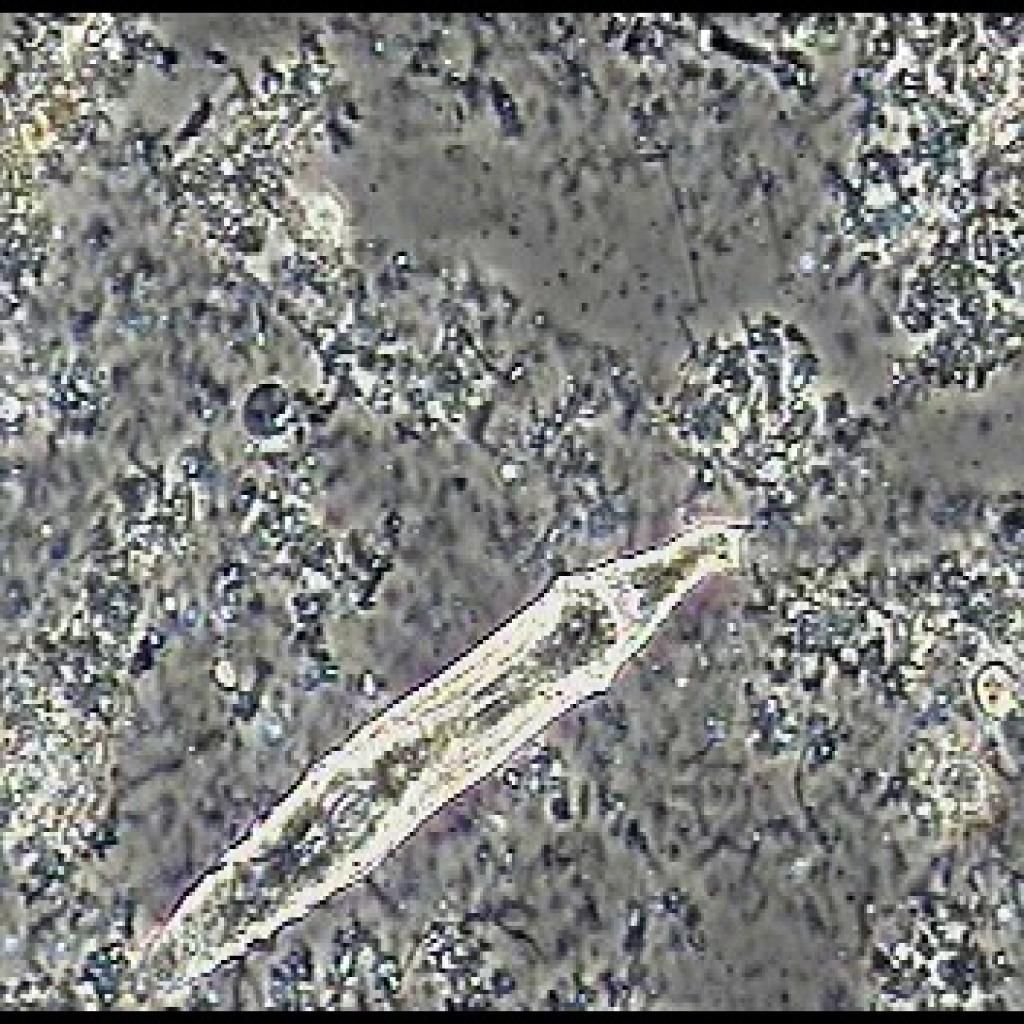Rotatoria: (94, 516, 740, 1007)
